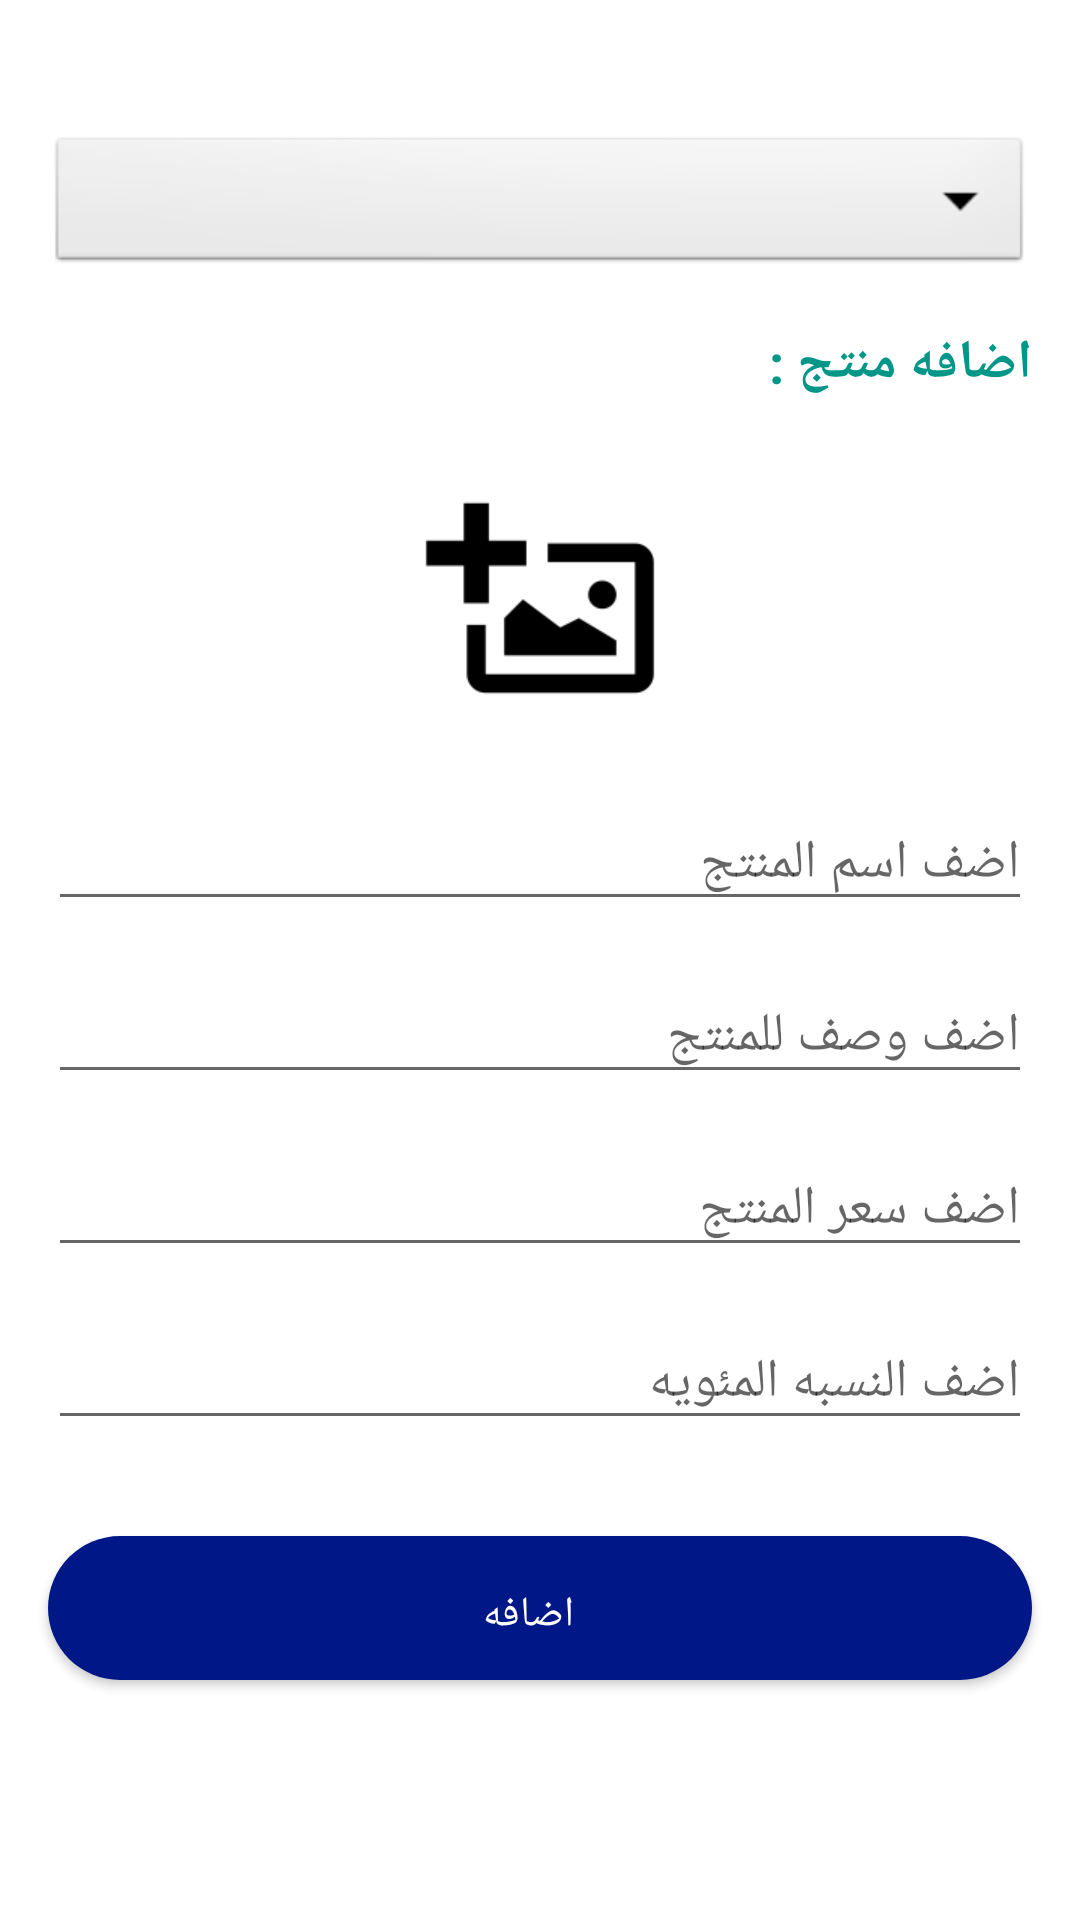

Icon click points for this 1080 x 1920 phone screenshot, format (x,y):
add: (540,598)
